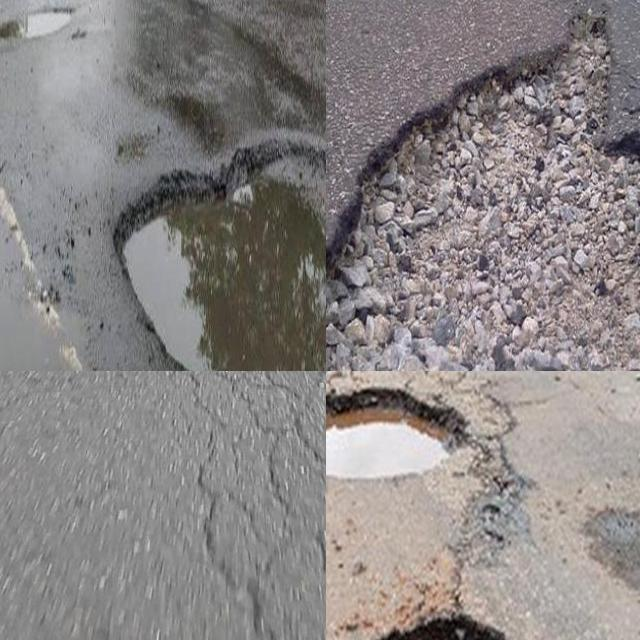Lubang: (326, 18, 640, 371), (114, 143, 326, 371), (326, 389, 476, 470)
Retak Buaya: (145, 371, 326, 640)
